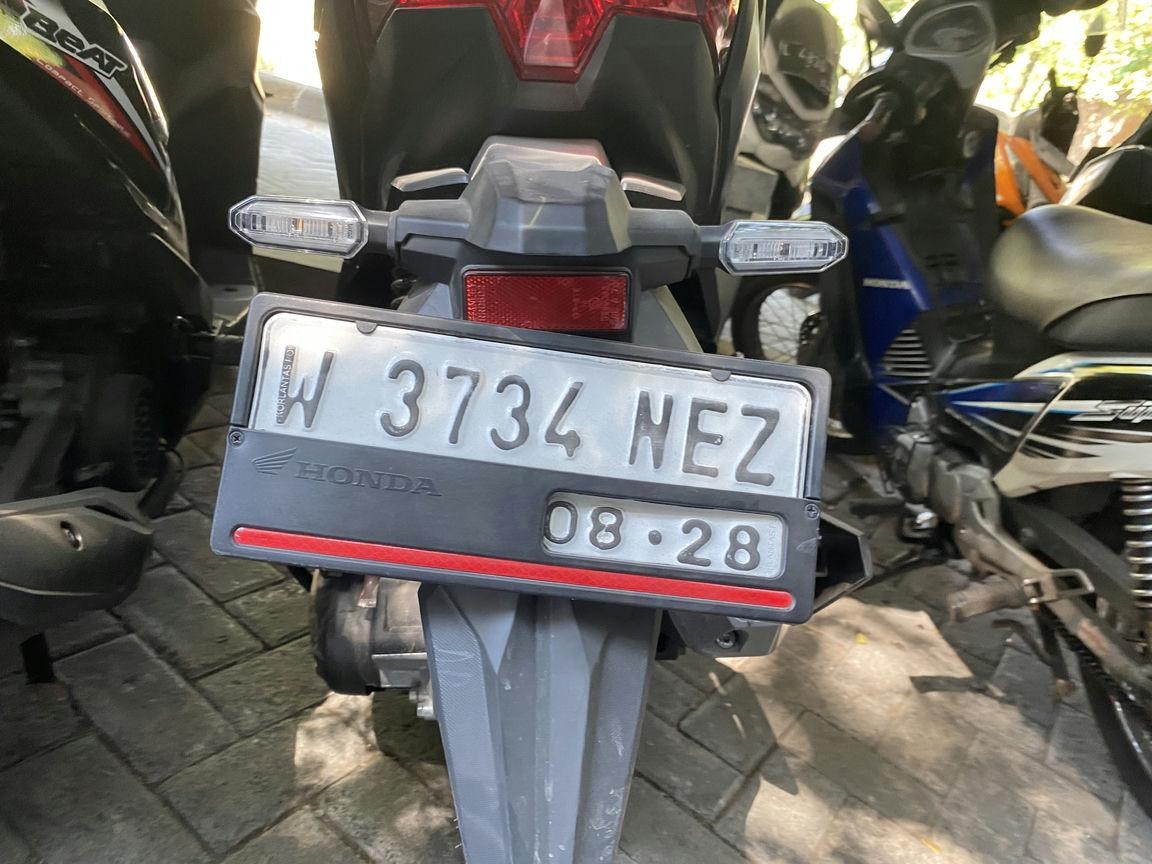plat: (212, 295, 828, 623)
